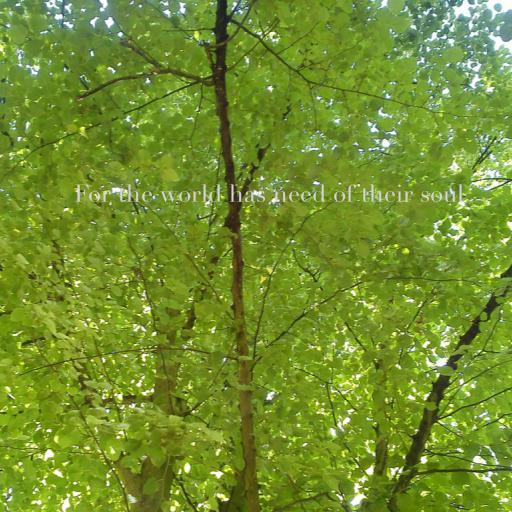Didot: (74, 184, 464, 203)
